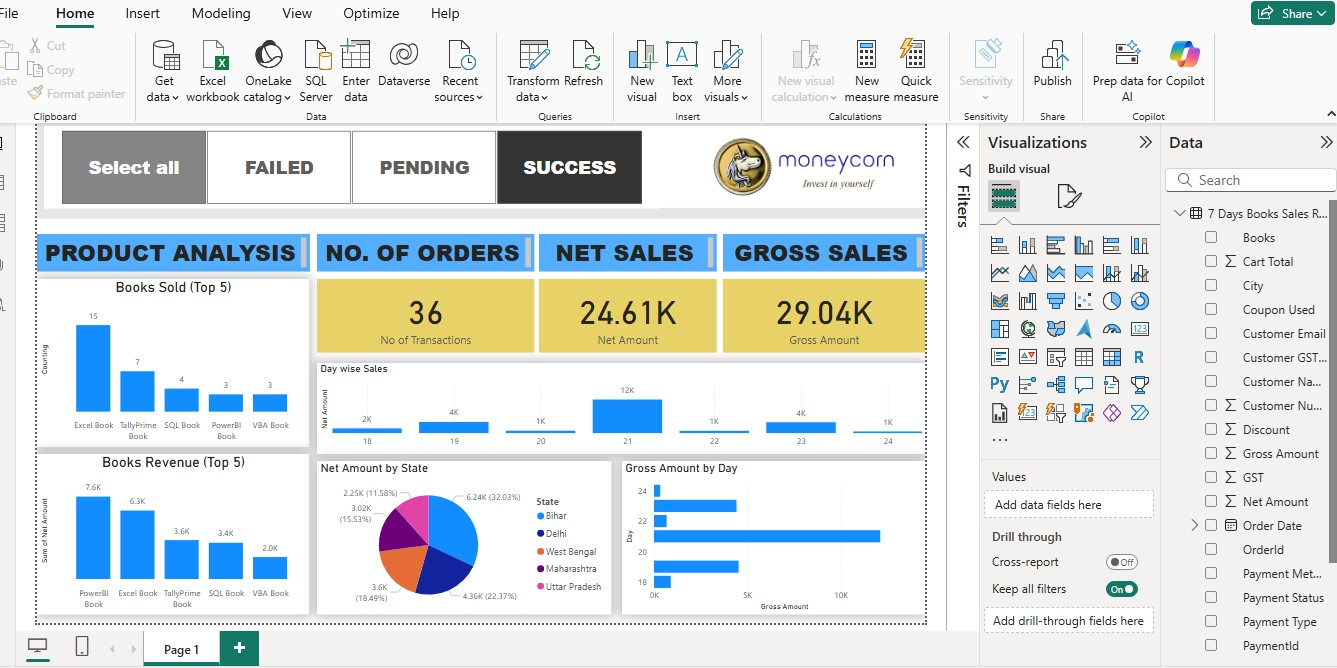

What the dashboard file says about the page in this screenshot:
{"tool":"powerbi","page":{"name":"Page 1","canvas":[1280,720],"ordinal":0},"visuals":[{"type":"shape","box":[0,0,1280,138.5],"z":0},{"type":"slicer","fields":{"Values":["7 Days Books Sales Report File.Payment Status"]},"box":[10,5,884.5,118.5],"z":2000},{"type":"textbox","box":[0,159.7,393,53.6],"z":3000},{"type":"textbox","box":[403,159.7,313.1,53.6],"z":4000},{"type":"textbox","box":[723.6,159.7,255.8,53.6],"z":5000},{"type":"textbox","box":[988.1,159.7,291.9,53.6],"z":6000},{"type":"clusteredColumnChart","title":"Books Sold (Top 5)","fields":{"Category":["7 Days Books Sales Report File.Books"],"Y":["CountNonNull(7 Days Books Sales Report File.Books)"]},"box":[0,224.9,392.4,242],"z":7000},{"type":"clusteredColumnChart","title":"Books Revenue (Top 5)","fields":{"Category":["7 Days Books Sales Report File.Books"],"Y":["Sum(7 Days Books Sales Report File.Net Amount)"]},"box":[0,476.7,392.4,231],"z":8000},{"type":"clusteredColumnChart","title":"Day wise Sales","fields":{"Category":["7 Days Books Sales Report File.Order Date.Variation.Date Hierarchy.Day"],"Y":["Sum(7 Days Books Sales Report File.Net Amount)"]},"box":[403,345.6,877,131],"z":9000},{"type":"card","fields":{"Values":["CountNonNull(7 Days Books Sales Report File.OrderId)"]},"box":[403,224.6,313.1,106],"z":10000},{"type":"card","fields":{"Values":["Sum(7 Days Books Sales Report File.Net Amount)"]},"box":[723.6,224.6,255.8,106],"z":11000},{"type":"card","fields":{"Values":["Sum(7 Days Books Sales Report File.Gross Amount)"]},"box":[988.1,224.6,291.9,106],"z":12000},{"type":"pieChart","fields":{"Category":["7 Days Books Sales Report File.State"],"Y":["Sum(7 Days Books Sales Report File.Net Amount)"]},"box":[403,486.5,424.2,220.8],"z":13000},{"type":"clusteredBarChart","fields":{"Category":["7 Days Books Sales Report File.Order Date.Variation.Date Hierarchy.Day"],"Y":["Sum(7 Days Books Sales Report File.Gross Amount)"]},"box":[842.1,486.5,437.9,220.8],"z":14000},{"type":"image","box":[884.2,4.3,396,118.1],"z":14001}]}

Visuals, with their boxes on the page's 1280x720 design canvas (x1, y1, x2, y2). These are canvas units, not pixel positions in the 1337x668 screenshot, which may show the page scaled, cropped or inside an application window:
shape: {"x1": 0, "y1": 0, "x2": 1280, "y2": 138}
slicer - 7 Days Books Sales Report File.Payment Status: {"x1": 10, "y1": 5, "x2": 894, "y2": 124}
textbox: {"x1": 0, "y1": 160, "x2": 393, "y2": 213}
textbox: {"x1": 403, "y1": 160, "x2": 716, "y2": 213}
textbox: {"x1": 724, "y1": 160, "x2": 979, "y2": 213}
textbox: {"x1": 988, "y1": 160, "x2": 1280, "y2": 213}
"Books Sold (Top 5)" clusteredColumnChart: {"x1": 0, "y1": 225, "x2": 392, "y2": 467}
"Books Revenue (Top 5)" clusteredColumnChart: {"x1": 0, "y1": 477, "x2": 392, "y2": 708}
"Day wise Sales" clusteredColumnChart: {"x1": 403, "y1": 346, "x2": 1280, "y2": 477}
card - CountNonNull(7 Days Books Sales Report File.OrderId): {"x1": 403, "y1": 225, "x2": 716, "y2": 331}
card - Sum(7 Days Books Sales Report File.Net Amount): {"x1": 724, "y1": 225, "x2": 979, "y2": 331}
card - Sum(7 Days Books Sales Report File.Gross Amount): {"x1": 988, "y1": 225, "x2": 1280, "y2": 331}
pieChart - 7 Days Books Sales Report File.State x Sum(7 Days Books Sales Report File.Net Amount): {"x1": 403, "y1": 486, "x2": 827, "y2": 707}
clusteredBarChart - 7 Days Books Sales Report File.Order Date.Variation.Date Hierarchy.Day x Sum(7 Days Books Sales Report File.Gross Amount): {"x1": 842, "y1": 486, "x2": 1280, "y2": 707}
image: {"x1": 884, "y1": 4, "x2": 1280, "y2": 122}
